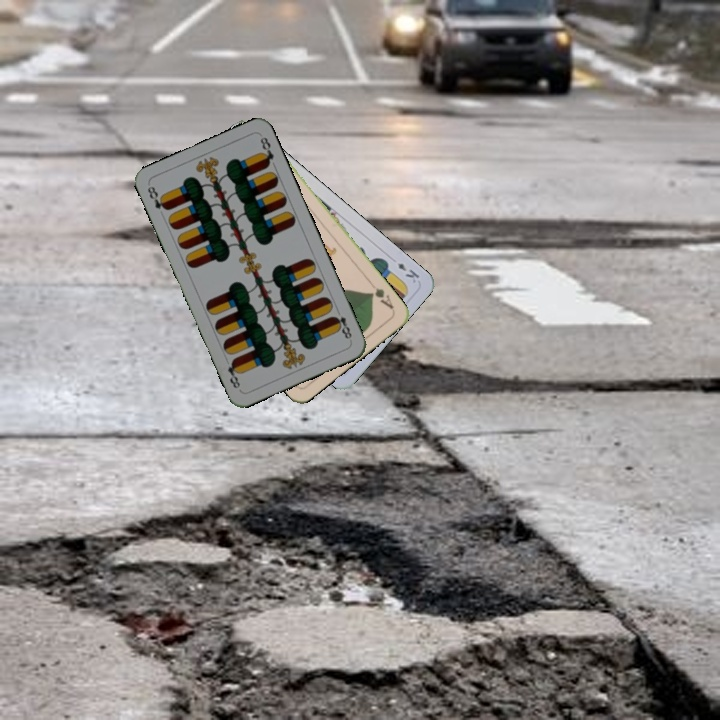E8: (329, 305, 354, 343), (143, 182, 171, 213)
EK: (393, 259, 422, 286)
GA: (366, 284, 397, 312)
